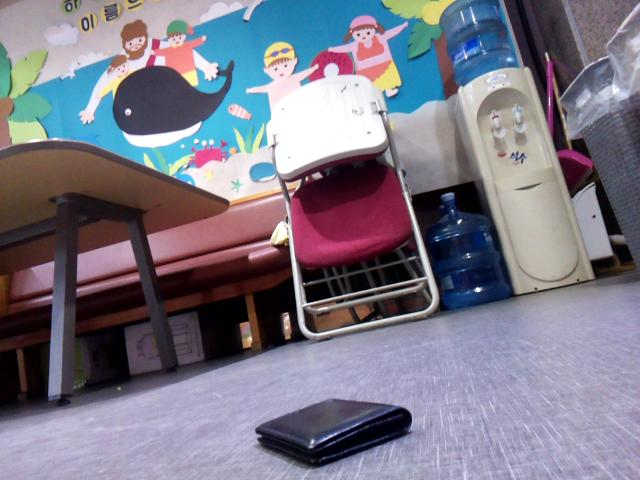wallet: (249, 387, 417, 473)
